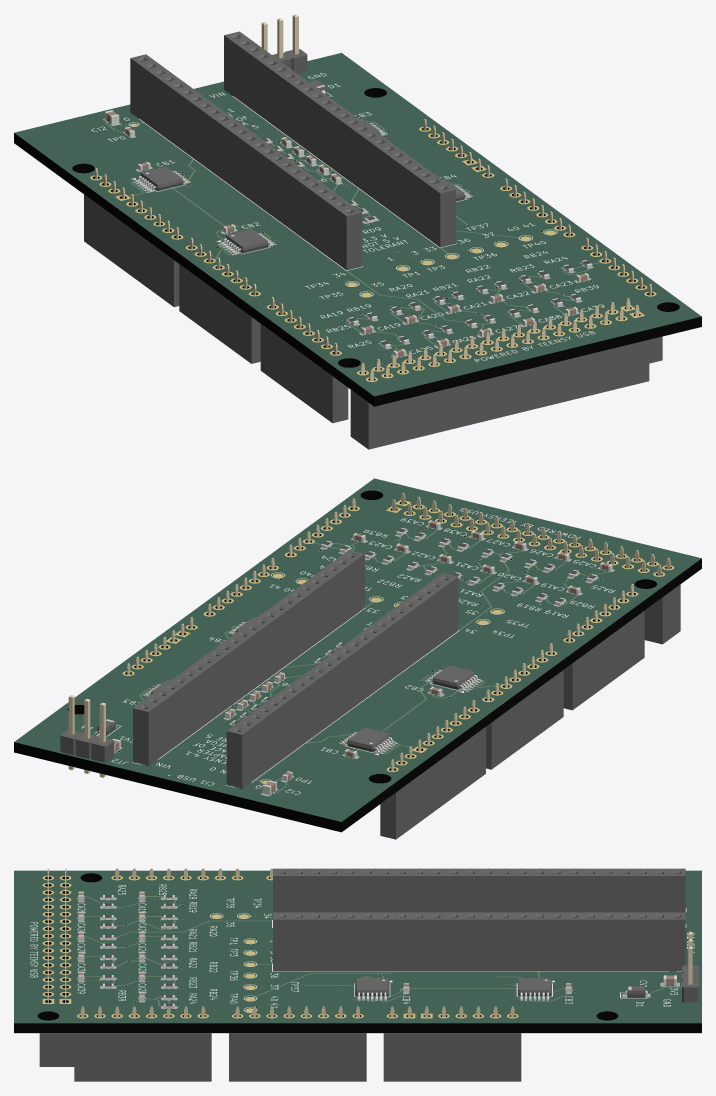
Rendered from teensy-adapter.glb.
3 renders of one model, top to bottom at view 1: azimuth 30°, elevation 25°; view 2: azimuth 150°, elevation 25°; view 3: azimuth 270°, elevation 25°, orthographic. The views are drawn at different scales.
Parts seen in each view (by area): view 1: teensy-adapter_visual_layers_4, teensy-adapter_visual_layers_1, JT1, JT2, JM1_2_VISUAL, JM1_1_VISUAL, JM1_3_VISUAL, teensy-adapter_visual_layers_2, JM1_4_VISUAL, teensy-adapter_visual_layers_7, teensy-adapter_visual_layers_3, U1 (+2 smaller); view 2: teensy-adapter_visual_layers_4, teensy-adapter_visual_layers_1, JT1, JT2, JM1_1_VISUAL, teensy-adapter_visual_layers_2, JM1_3_VISUAL, JM1_4_VISUAL, JM1_2_VISUAL, teensy-adapter_visual_layers_7, teensy-adapter_visual_layers_3, U1 (+4 smaller); view 3: teensy-adapter_visual_layers_4, teensy-adapter_visual_layers_1, JT2, JT1, JM1_0_VISUAL, JM1_5_VISUAL, JM1_6_VISUAL, teensy-adapter_visual_layers_2, teensy-adapter_visual_layers_7, JM1_2_VISUAL, teensy-adapter_visual_layers_3, U4 (+4 smaller).
Boxes of the visible parts, box(x1,y1,x2,y2) form: teensy-adapter_visual_layers_4: box(14, 53, 701, 396); teensy-adapter_visual_layers_1: box(14, 53, 701, 406); JT1: box(130, 54, 362, 270); JT2: box(224, 31, 455, 247); JM1_2_VISUAL: box(350, 298, 649, 449); JM1_1_VISUAL: box(84, 167, 179, 307); JM1_3_VISUAL: box(260, 297, 348, 423); teensy-adapter_visual_layers_2: box(90, 122, 656, 381); JM1_4_VISUAL: box(179, 237, 260, 363); teensy-adapter_visual_layers_7: box(91, 73, 604, 362); teensy-adapter_visual_layers_3: box(103, 118, 593, 358); U1: box(135, 166, 188, 191); teensy-adapter_visual_layers_4: box(14, 478, 701, 821); teensy-adapter_visual_layers_1: box(14, 479, 701, 832); JT1: box(226, 573, 458, 789); JT2: box(133, 550, 364, 766); JM1_1_VISUAL: box(380, 700, 485, 839); teensy-adapter_visual_layers_2: box(120, 499, 674, 792); JM1_3_VISUAL: box(563, 584, 644, 710); JM1_4_VISUAL: box(486, 643, 563, 769); JM1_2_VISUAL: box(392, 493, 680, 644); teensy-adapter_visual_layers_7: box(81, 508, 615, 794); teensy-adapter_visual_layers_3: box(96, 525, 614, 796); U1: box(341, 728, 395, 753); teensy-adapter_visual_layers_4: box(14, 870, 701, 1023); teensy-adapter_visual_layers_1: box(14, 871, 701, 1032); JT2: box(273, 912, 685, 971); JT1: box(273, 868, 685, 912); JM1_0_VISUAL: box(383, 1006, 521, 1081); JM1_5_VISUAL: box(74, 1006, 211, 1081); JM1_6_VISUAL: box(229, 1006, 366, 1081); teensy-adapter_visual_layers_2: box(42, 875, 664, 1018); teensy-adapter_visual_layers_7: box(30, 884, 694, 1012); JM1_2_VISUAL: box(39, 868, 74, 1066); teensy-adapter_visual_layers_3: box(78, 895, 686, 1008); U4: box(355, 978, 389, 999).
Bounding box in the file's own units: 0.0533 × 0.0186 × 0.1016.
